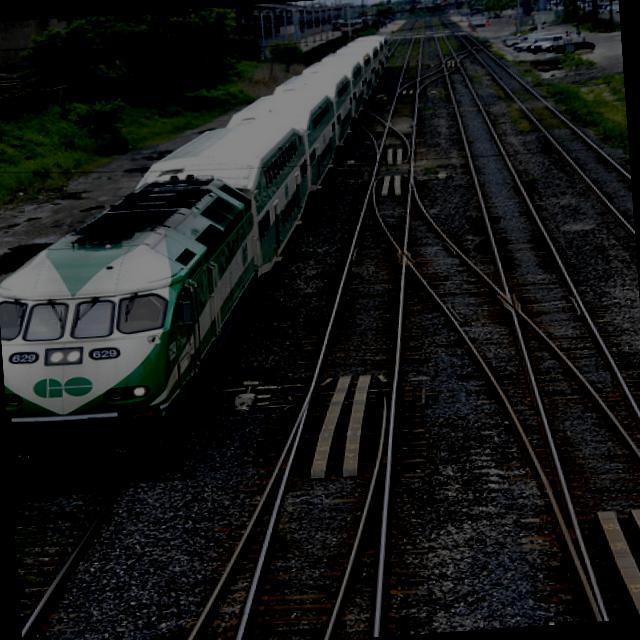Vehicle: (526, 34, 566, 54), (554, 41, 595, 53), (512, 38, 538, 50)
